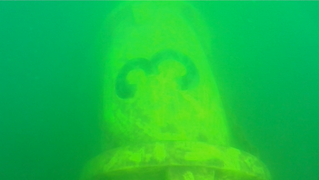3: (116, 49, 199, 98)
pipe: (81, 1, 272, 179)
